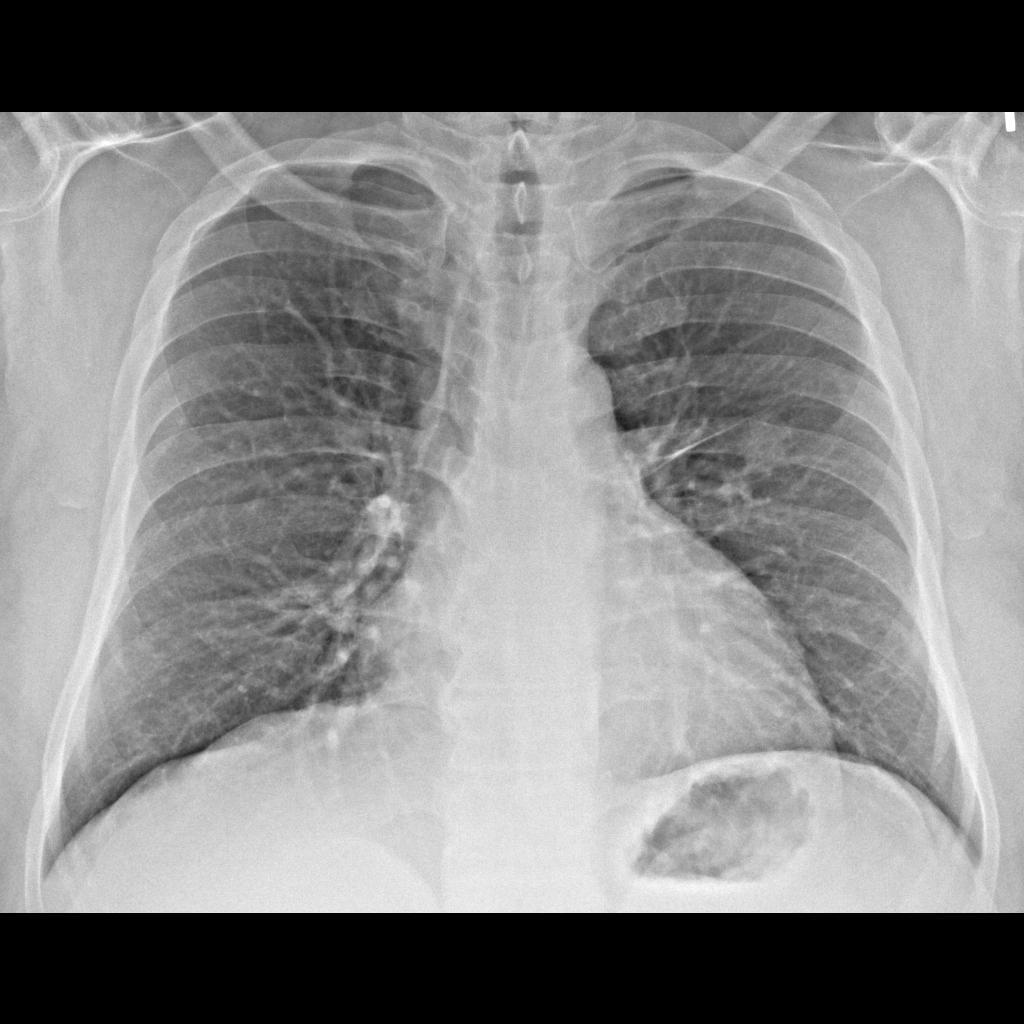Nodule: (738, 400, 802, 486)
